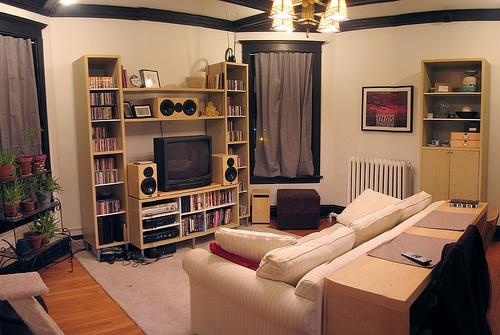pottedplant: (23, 127, 49, 173), (33, 209, 60, 243), (36, 174, 61, 208), (19, 180, 39, 214), (1, 150, 19, 185), (5, 182, 22, 218), (25, 230, 43, 250), (17, 153, 32, 175)
sofa: (186, 189, 446, 334)
tvmonitor: (151, 135, 213, 193)
